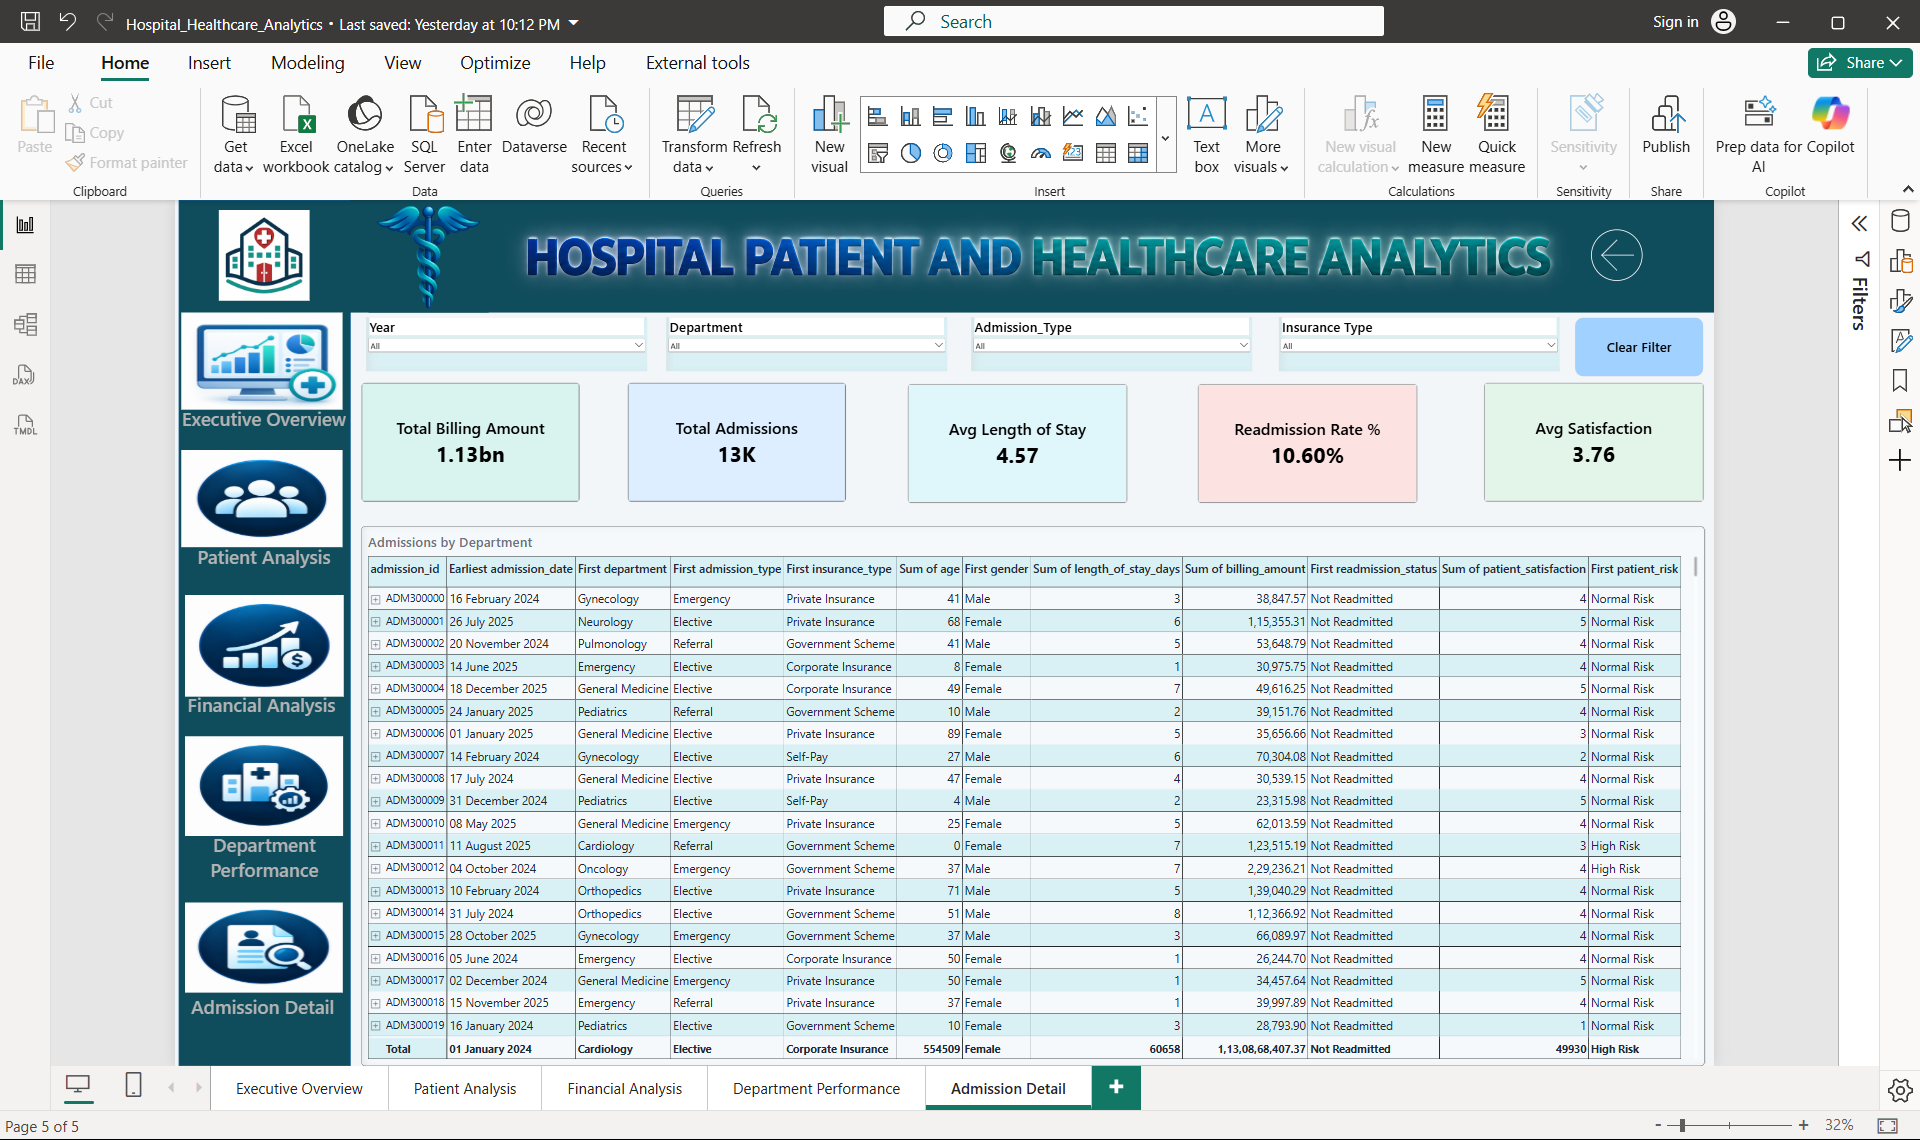

What the dashboard file says about the page in this screenshot:
{"tool":"powerbi","page":{"name":"Admission Detail","canvas":[3840,2160],"ordinal":4},"visuals":[{"type":"image","box":[15.9,281.3,402.5,242.4],"z":0,"group":"g1"},{"type":"cardVisual","title":"Total Revenue","fields":{"Data":["hospital_admissions_cleaned.Total Billing Amount"]},"box":[463.1,454.5,545.4,298.7],"z":0},{"type":"image","box":[15.9,622.1,402.5,242.4],"z":0,"group":"g2"},{"type":"image","box":[23,986.4,396.1,253.4],"z":0,"group":"g3"},{"type":"image","box":[26,1338.4,394.4,248.6],"z":0,"group":"g4"},{"type":"image","box":[26,1751.9,393.9,225.1],"z":0,"group":"g5"},{"type":"actionButton","box":[4.3,282.5,437.2,303],"z":1000,"group":"g1"},{"type":"cardVisual","title":"Total Revenue","fields":{"Data":["hospital_admissions_cleaned.Avg Length of Stay"]},"box":[1826.5,458.8,549.7,298.7],"z":1000},{"type":"actionButton","box":[4.3,623.3,437.2,303],"z":1000,"group":"g2"},{"type":"actionButton","box":[-4.3,982.5,437.2,316],"z":1000,"group":"g3"},{"type":"actionButton","box":[0,1320.1,445.8,389.5],"z":1000,"group":"g4"},{"type":"actionButton","box":[0,1731.3,437.2,320.3],"z":1000,"group":"g5"},{"type":"cardVisual","title":"Total Revenue","fields":{"Data":["hospital_admissions_cleaned.Total Admissions"]},"box":[1129.7,454.5,545.4,298.7],"z":2000},{"type":"cardVisual","title":"Total Revenue","fields":{"Data":["hospital_admissions_cleaned.Avg Satisfaction"]},"box":[3263.5,454.5,549.7,298.7],"z":3000},{"type":"pivotTable","title":"Admissions by Department","fields":{"Values":["Min(hospital_admissions_cleaned.admission_date)","Min(hospital_admissions_cleaned.department)","Min(hospital_admissions_cleaned.admission_type)","Min(hospital_admissions_cleaned.insurance_type)","Sum(hospital_admissions_cleaned.age)","Min(hospital_admissions_cleaned.gender)","Sum(hospital_admissions_cleaned.length_of_stay_days)","Sum(hospital_admissions_cleaned.billing_amount)","Min(hospital_admissions_cleaned.readmission_status)","Sum(hospital_admissions_cleaned.patient_satisfaction)","Min(hospital_admissions_cleaned.patient_risk)"],"Rows":["hospital_admissions_cleaned.admission_id","hospital_admissions_cleaned.patient_id","hospital_admissions_cleaned.diagnosis"]},"box":[463.1,813.7,3350.1,1346.1],"z":4000},{"type":"cardVisual","title":"Total Revenue","fields":{"Data":["hospital_admissions_cleaned.Readmission Rate %"]},"box":[2549.4,458.8,549.7,298.7],"z":5000},{"type":"shape","box":[8.7,0,428.5,2159.8],"z":6000},{"type":"textbox","box":[437.2,0,3402,281],"z":7000},{"type":"slicer","fields":{"Values":["hospital_admissions_cleaned.admission_date.Variation.Date Hierarchy.Year"]},"box":[476.1,294.3,701.2,134.2],"z":8000},{"type":"slicer","fields":{"Values":["hospital_admissions_cleaned.department"]},"box":[1224.9,294.3,701.2,134.2],"z":9000},{"type":"slicer","fields":{"Values":["hospital_admissions_cleaned.admission_type"]},"box":[1986.7,294.3,701.2,134.2],"z":10000},{"type":"slicer","fields":{"Values":["hospital_admissions_cleaned.insurance_type"]},"box":[2752.8,294.3,701.2,134.2],"z":11000},{"type":"actionButton","box":[3492.9,294.3,320.3,147.2],"z":12000},{"type":"actionButton","box":[3350.1,26,489.1,225.1],"z":13000},{"type":"group","id":"g1","title":"Group 1","box":[4.3,281.3,437.2,303],"z":14000},{"type":"group","id":"g2","title":"Group 2","box":[4.3,622.1,437.2,304.2],"z":15000},{"type":"group","id":"g3","title":"Group 3","box":[-4.3,982.5,437.2,316],"z":16000},{"type":"group","id":"g4","title":"Group 4","box":[0,1320.1,445.8,389.5],"z":17000},{"type":"group","id":"g5","title":"Group 5","box":[0,1731.3,437.2,320.3],"z":18000},{"type":"image","box":[71.9,25.2,302,226.5],"z":19000},{"type":"image","box":[827,25.2,2653.5,226.5],"z":19001},{"type":"image","box":[481.8,0,298.4,280.4],"z":19002}]}

Visuals, with their boxes on the page's 3840x2160 design canvas (x1, y1, x2, y2). These are canvas units, not pixel positions in the 1920x1140 screenshot, which may show the page scaled, cropped or inside an application window:
image: Rect(16, 281, 418, 524)
"Total Revenue" cardVisual: Rect(463, 454, 1008, 753)
image: Rect(16, 622, 418, 864)
image: Rect(23, 986, 419, 1240)
image: Rect(26, 1338, 420, 1587)
image: Rect(26, 1752, 420, 1977)
actionButton: Rect(4, 282, 442, 586)
"Total Revenue" cardVisual: Rect(1826, 459, 2376, 758)
actionButton: Rect(4, 623, 442, 926)
actionButton: Rect(-4, 982, 433, 1298)
actionButton: Rect(0, 1320, 446, 1710)
actionButton: Rect(0, 1731, 437, 2052)
"Total Revenue" cardVisual: Rect(1130, 454, 1675, 753)
"Total Revenue" cardVisual: Rect(3264, 454, 3813, 753)
"Admissions by Department" pivotTable: Rect(463, 814, 3813, 2160)
"Total Revenue" cardVisual: Rect(2549, 459, 3099, 758)
shape: Rect(9, 0, 437, 2160)
textbox: Rect(437, 0, 3839, 281)
slicer - hospital_admissions_cleaned.admission_date.Variation.Date Hierarchy.Year: Rect(476, 294, 1177, 428)
slicer - hospital_admissions_cleaned.department: Rect(1225, 294, 1926, 428)
slicer - hospital_admissions_cleaned.admission_type: Rect(1987, 294, 2688, 428)
slicer - hospital_admissions_cleaned.insurance_type: Rect(2753, 294, 3454, 428)
actionButton: Rect(3493, 294, 3813, 442)
actionButton: Rect(3350, 26, 3839, 251)
"Group 1" group: Rect(4, 281, 442, 584)
"Group 2" group: Rect(4, 622, 442, 926)
"Group 3" group: Rect(-4, 982, 433, 1298)
"Group 4" group: Rect(0, 1320, 446, 1710)
"Group 5" group: Rect(0, 1731, 437, 2052)
image: Rect(72, 25, 374, 252)
image: Rect(827, 25, 3480, 252)
image: Rect(482, 0, 780, 280)
